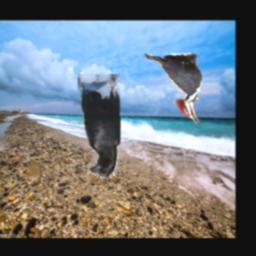Crow: (78, 74, 121, 176)
Woodpecker: (142, 53, 203, 124)
